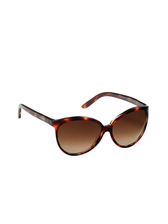glasses: (12, 93, 153, 158)
